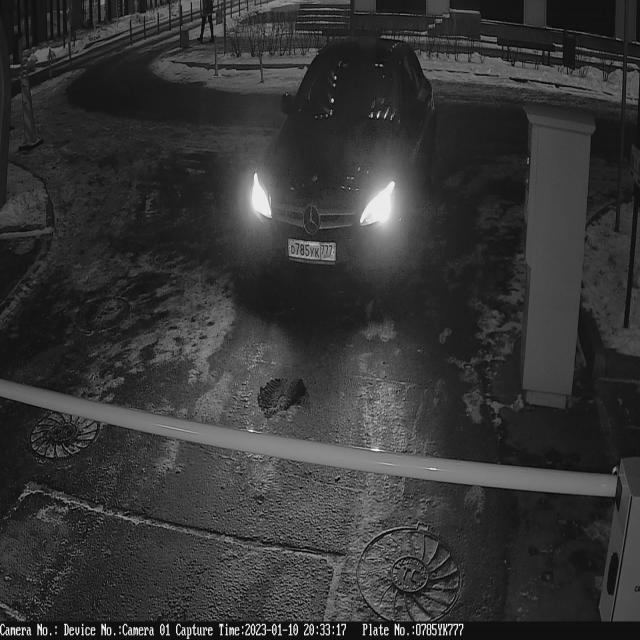car-plate-numbers: (285, 235, 340, 269)
